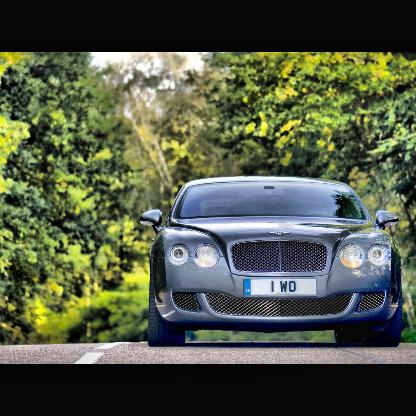Bentley Continental GT Coupe 2012: (137, 174, 409, 353)
